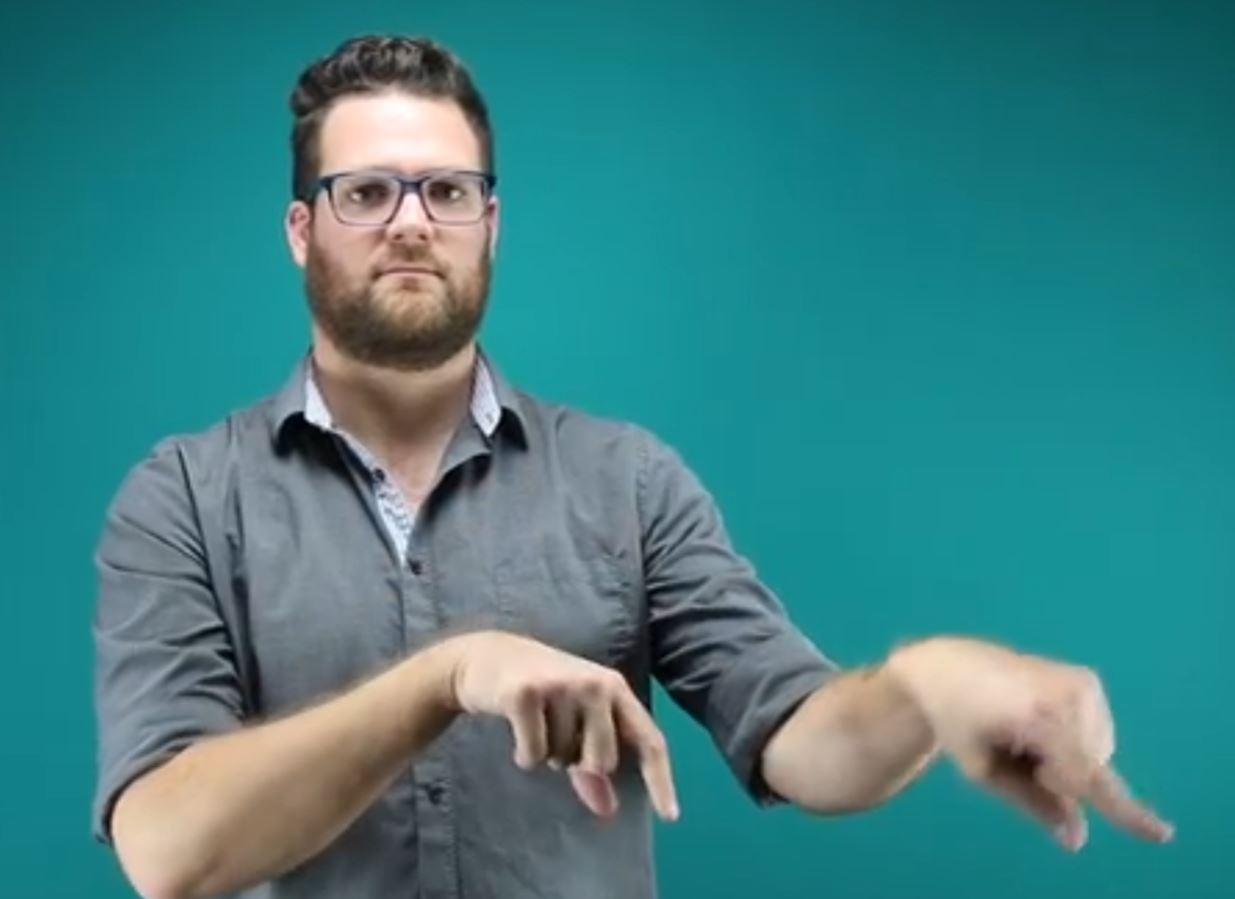go: (454, 591, 1204, 868)
